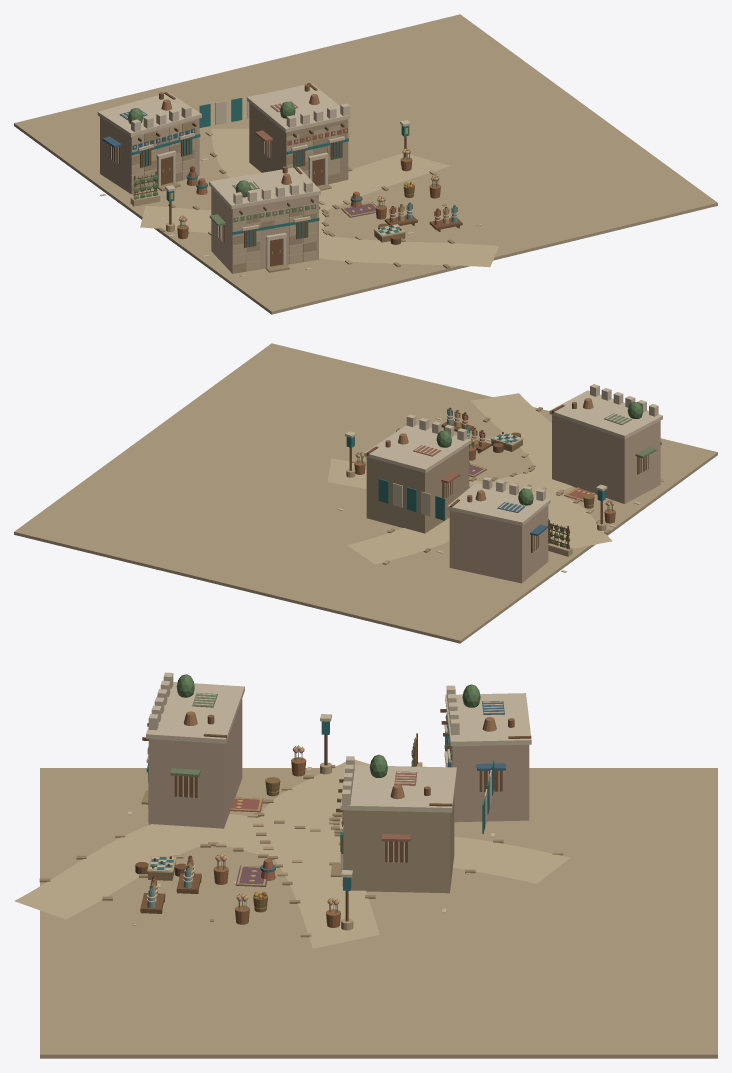
File: city-homes.glb
The picture shows the model from 3 angles, top to bottom: view 1: azimuth 30°, elevation 25°; view 2: azimuth 150°, elevation 25°; view 3: azimuth 270°, elevation 25°; orthographic projection. The views are drawn at different scales.
Parts seen in each view (by area): view 1: city-homes; view 2: city-homes; view 3: city-homes.
Part boxes in pixels (x1,y1,x2,y2): city-homes: (14, 14, 717, 314); city-homes: (14, 343, 717, 643); city-homes: (14, 672, 717, 1058).
Bounding box in the file's own units: 32.94 × 5.97 × 33.22.
